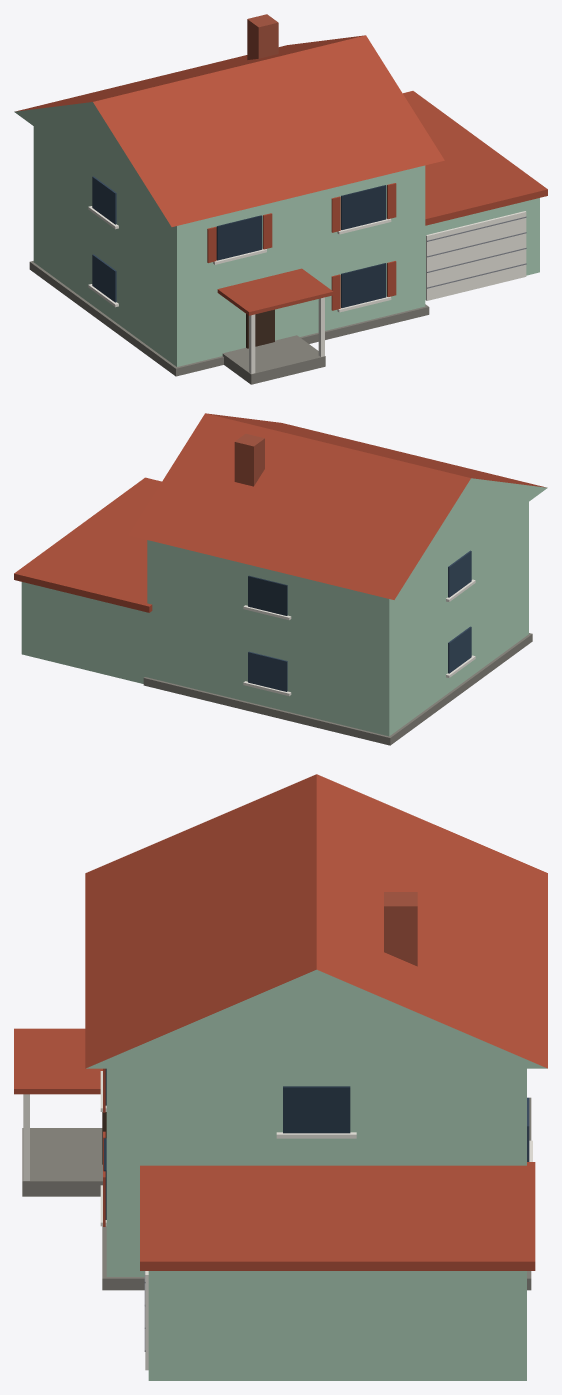
The model's file is house_d.glb.
3 views of the same model, one above another, from view 1: azimuth 30°, elevation 25°; view 2: azimuth 150°, elevation 25°; view 3: azimuth 270°, elevation 25° (orthographic). The views are drawn at different scales.
Parts seen in each view (by area): view 1: house_d; view 2: house_d; view 3: house_d.
Part boxes in pixels (<box>): house_d: <box>14,14,547,384</box>; house_d: <box>14,413,547,745</box>; house_d: <box>14,774,547,1380</box>.
Size of what is drawn, in the model's own units: 15.9 by 9.05 by 12.7.
